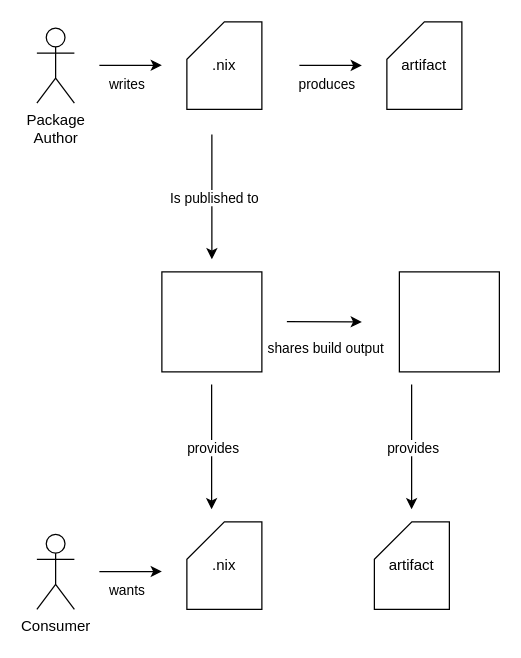
Image size: 521x658. Some labels were removed from this diagram. The centre of each missing label's shape, as x and y in pixels:
"Nix Binary Cache" goes at point 448,321.
"Package Registry" goes at point 211,321.
